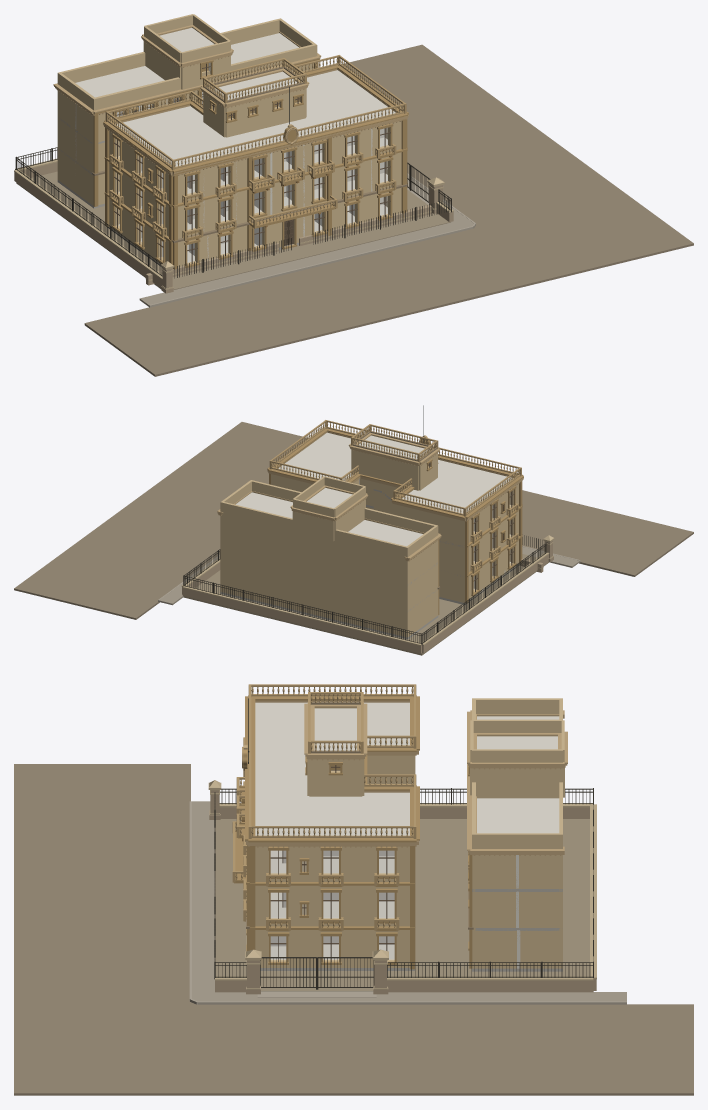
File: comandancia-drone.glb
3 renders of one model, top to bottom at view 1: azimuth 30°, elevation 25°; view 2: azimuth 150°, elevation 25°; view 3: azimuth 270°, elevation 25°, orthographic. The views are drawn at different scales.
Visible parts, largest first — view 1: ENV_EXT_074, P01_3_033, P04_3_059, ENV_EXT_075, P01_1_010, P01_2_019, P01_0_000, ENV_EXT_072, P01_3_028, ENV_EXT_069, P01_2_020, P01_1_013 (+27 smaller); view 2: ENV_EXT_074, P04_0_039, P04_1_045, P04_2_052, P04_3_059, P01_3_033, ENV_EXT_072, ENV_EXT_069, P01_2_019, P01_3_028, ENV_EXT_075, P01_3_030 (+18 smaller); view 3: ENV_EXT_074, ENV_EXT_075, P01_3_033, ENV_EXT_073, P04_3_059, ENV_EXT_069, ENV_EXT_072, P01_2_019, P01_3_028, P01_3_027, P01_1_010, P01_0_000 (+26 smaller).
Boxes of the visible parts, x1,y1,x2,y2 form: ENV_EXT_074: (84, 44, 693, 376); P01_3_033: (117, 70, 395, 166); P04_3_059: (57, 18, 317, 110); ENV_EXT_075: (16, 171, 450, 289); P01_1_010: (109, 152, 401, 238); P01_2_019: (109, 111, 401, 203); P01_0_000: (109, 187, 401, 267); ENV_EXT_072: (15, 147, 451, 278); P01_3_028: (105, 55, 406, 170); ENV_EXT_069: (14, 162, 453, 293); P01_2_020: (104, 119, 407, 207); P01_1_013: (104, 151, 407, 242); ENV_EXT_074: (14, 422, 693, 619); P04_0_039: (220, 565, 438, 637); P04_1_045: (220, 538, 438, 610); P04_2_052: (220, 514, 438, 584); P04_3_059: (220, 480, 438, 557); P01_3_033: (278, 432, 512, 513); ENV_EXT_072: (183, 535, 547, 644); ENV_EXT_069: (182, 541, 553, 653); P01_2_019: (271, 474, 518, 545); P01_3_028: (269, 420, 521, 516); ENV_EXT_075: (183, 554, 548, 655); P01_3_030: (351, 449, 437, 490); ENV_EXT_074: (14, 764, 693, 1095); ENV_EXT_075: (215, 819, 589, 991); P01_3_033: (255, 702, 409, 835); ENV_EXT_073: (192, 801, 626, 1001); P04_3_059: (470, 698, 564, 848); ENV_EXT_069: (209, 790, 596, 994); ENV_EXT_072: (214, 788, 593, 989); P01_2_019: (255, 755, 414, 881); P01_3_028: (248, 684, 416, 838); P01_3_027: (245, 695, 419, 842); P01_1_010: (255, 885, 409, 926); P01_0_000: (255, 930, 409, 967).
Size of the model in its own units: 23.25 by 6.84 by 20.3.
